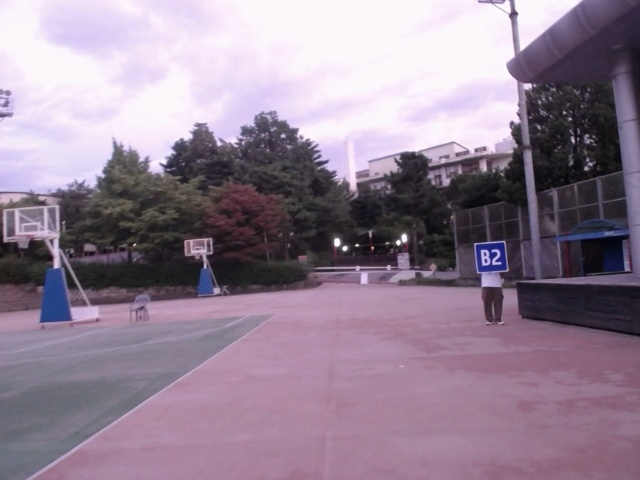delivery_b2: (473, 241, 509, 274)
